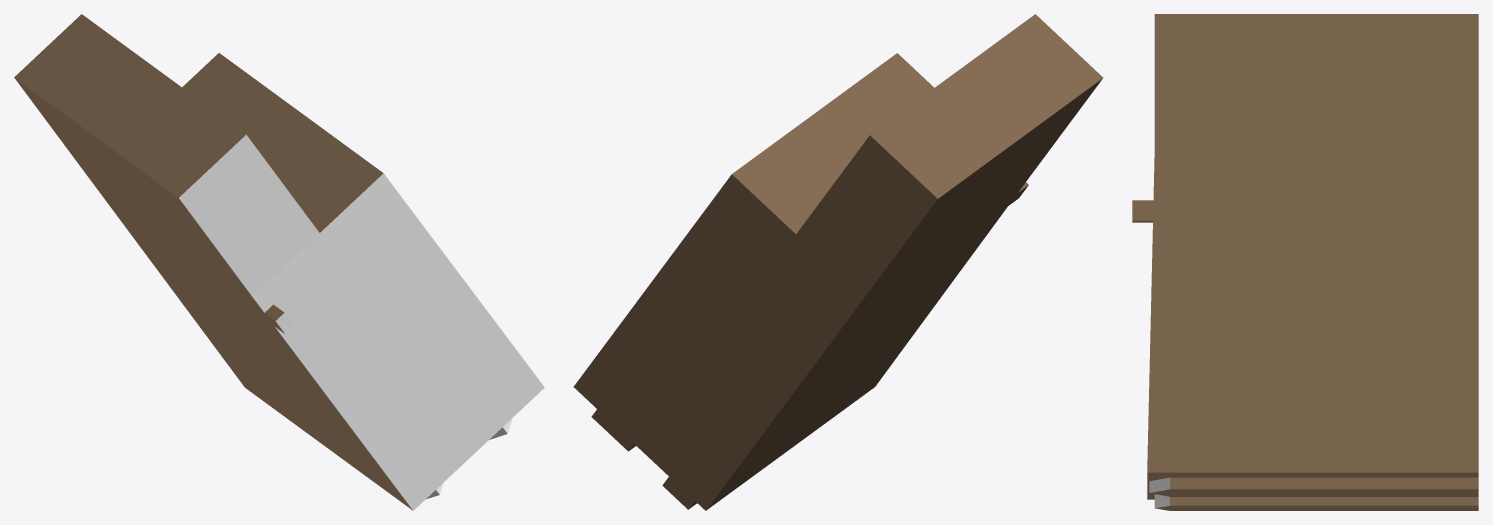
The picture shows the model from 3 angles, left to right: view 1: azimuth 30°, elevation 25°; view 2: azimuth 150°, elevation 25°; view 3: azimuth 270°, elevation 25°; orthographic projection. The views are drawn at different scales.
Parts seen in each view (by area): view 1: City_2316479; view 2: City_2316479; view 3: City_2316479.
Boxes of the visible parts, x1=… form: City_2316479: x1=14, y1=14, x2=544, y2=510; City_2316479: x1=573, y1=14, x2=1103, y2=510; City_2316479: x1=1132, y1=14, x2=1478, y2=510.
Bounding box in the file's own units: 1738 × 1909 × 1462.
